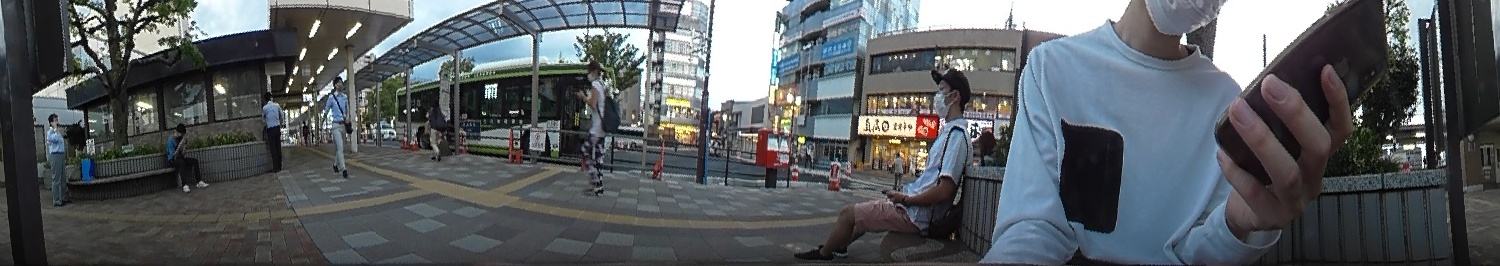difficult_person: (890, 149, 906, 186), (802, 139, 814, 166), (299, 115, 310, 142)
person: (793, 63, 984, 264), (573, 58, 611, 188), (315, 73, 361, 179), (162, 120, 211, 194), (420, 92, 458, 162), (44, 111, 72, 206), (258, 92, 286, 172)
